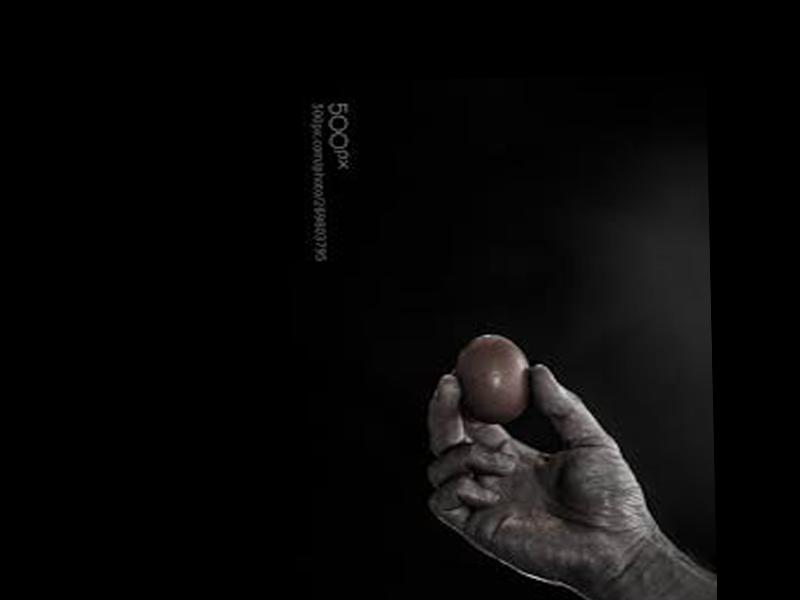Eggs: (456, 334, 534, 427)
